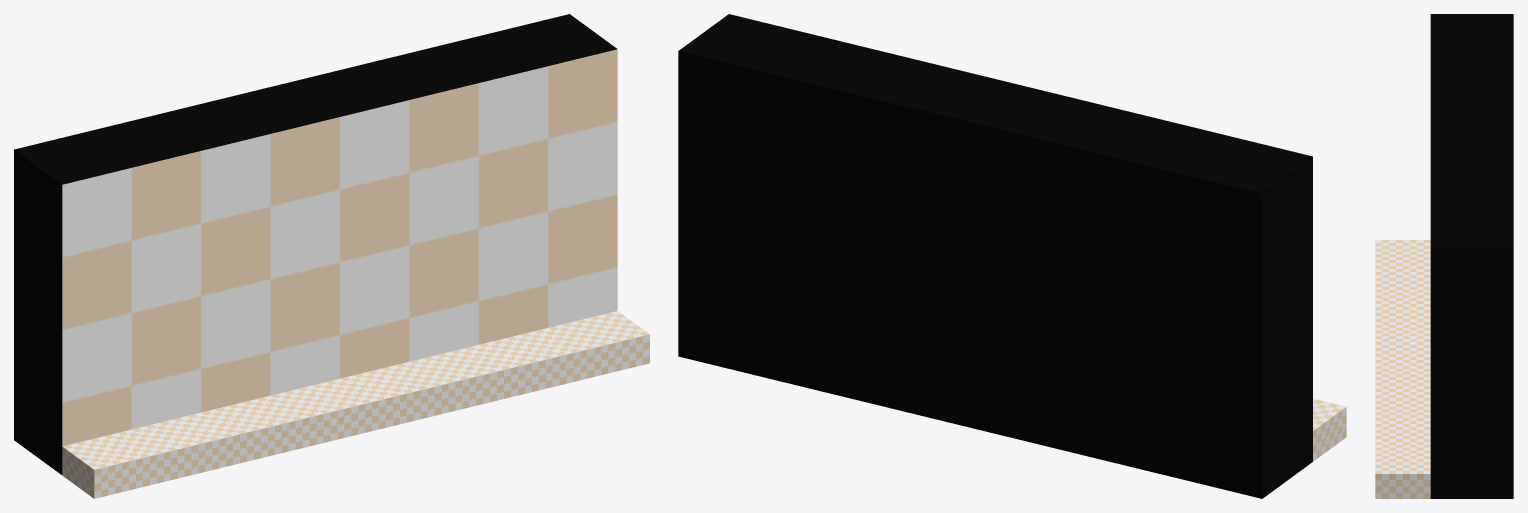
The model's file is Wall_Large.FBX.
3 renders of one model, left to right at view 1: azimuth 30°, elevation 25°; view 2: azimuth 150°, elevation 25°; view 3: azimuth 270°, elevation 25°, orthographic. The views are drawn at different scales.
Parts seen in each view (by area): view 1: wall_large, Box004; view 2: wall_large, Box004; view 3: wall_large, Box004.
Boxes of the visible parts, bbox=[...] form: wall_large: bbox=[14, 14, 617, 474]; Box004: bbox=[62, 311, 649, 498]; wall_large: bbox=[678, 14, 1312, 498]; Box004: bbox=[1313, 398, 1346, 461]; wall_large: bbox=[1430, 14, 1513, 498]; Box004: bbox=[1375, 240, 1430, 498].
Size of the model in its own units: 200 by 100 by 50.
2 materials, 2 textured.
